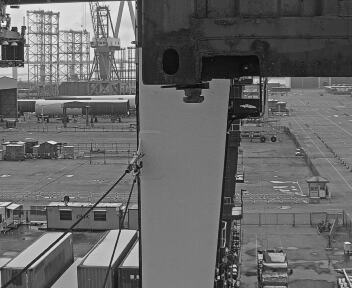twist_lock_1: (166, 76, 218, 111)
